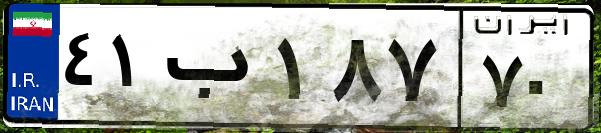0: (525, 38, 570, 115)
1: (270, 28, 330, 110), (110, 28, 158, 98)
4: (57, 26, 110, 100)
7: (385, 28, 445, 110), (475, 38, 525, 113)
8: (330, 28, 385, 110)
ب: (158, 20, 270, 120)
